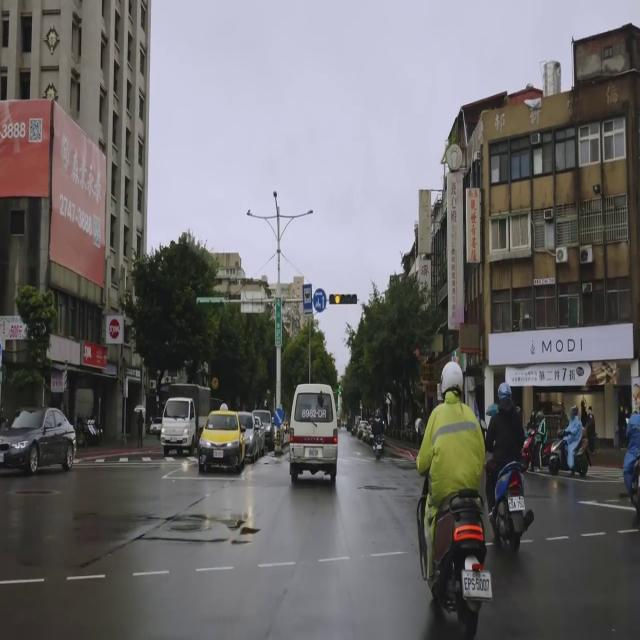yellow light: (328, 292, 358, 308)
